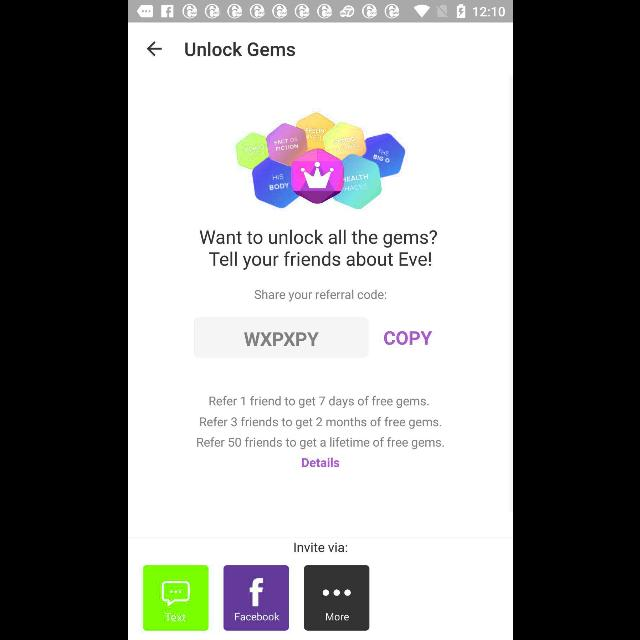icon: (224, 566, 288, 630), (146, 41, 162, 57)
image: (235, 113, 405, 210), (142, 565, 208, 631), (303, 566, 369, 630)
text: (196, 396, 444, 450), (199, 230, 437, 270), (254, 290, 386, 302), (184, 42, 294, 56), (383, 330, 431, 346), (294, 542, 346, 552), (301, 457, 339, 468)
textbutton: (194, 317, 368, 358)
uppertaskbar: (128, 1, 512, 23)
